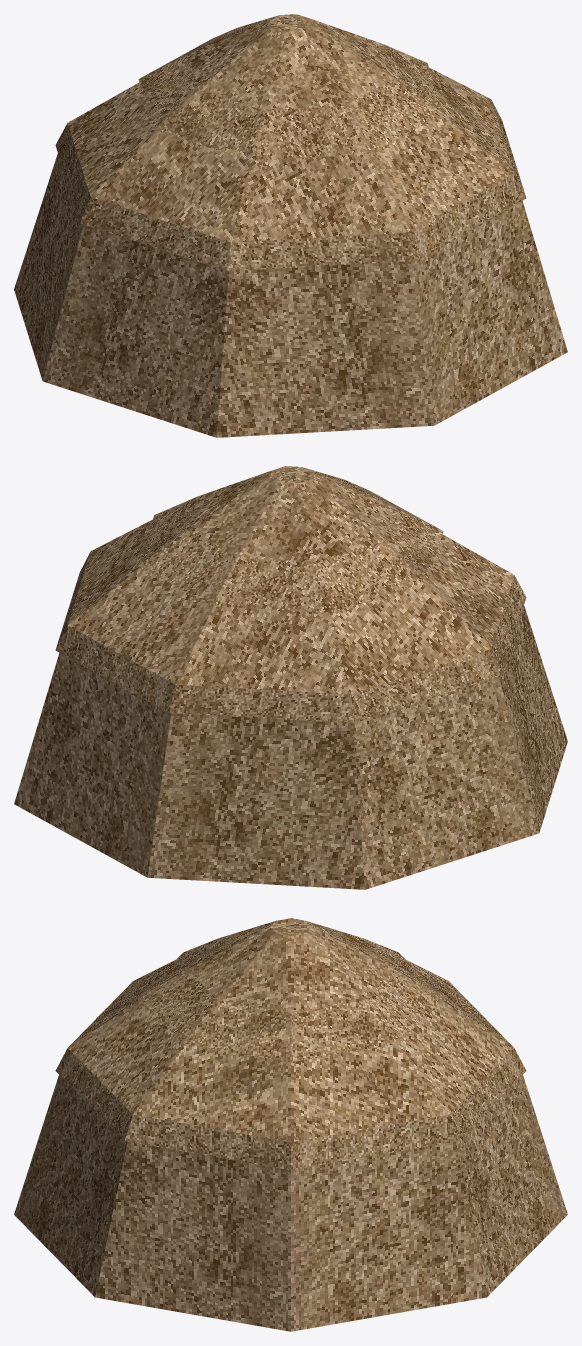
The model's file is hay.glb.
3 renders of one model, top to bottom at view 1: azimuth 30°, elevation 25°; view 2: azimuth 150°, elevation 25°; view 3: azimuth 270°, elevation 25°, orthographic. The views are drawn at different scales.
Visible parts, largest first — view 1: hay; view 2: hay; view 3: hay.
Boxes of the visible parts, x1,y1,x2,y2 form: hay: (14, 14, 567, 437); hay: (14, 466, 567, 889); hay: (14, 918, 567, 1331).
Bounding box in the file's own units: 4 × 2.29 × 4.
Materials: 1 (1 with a texture image).
